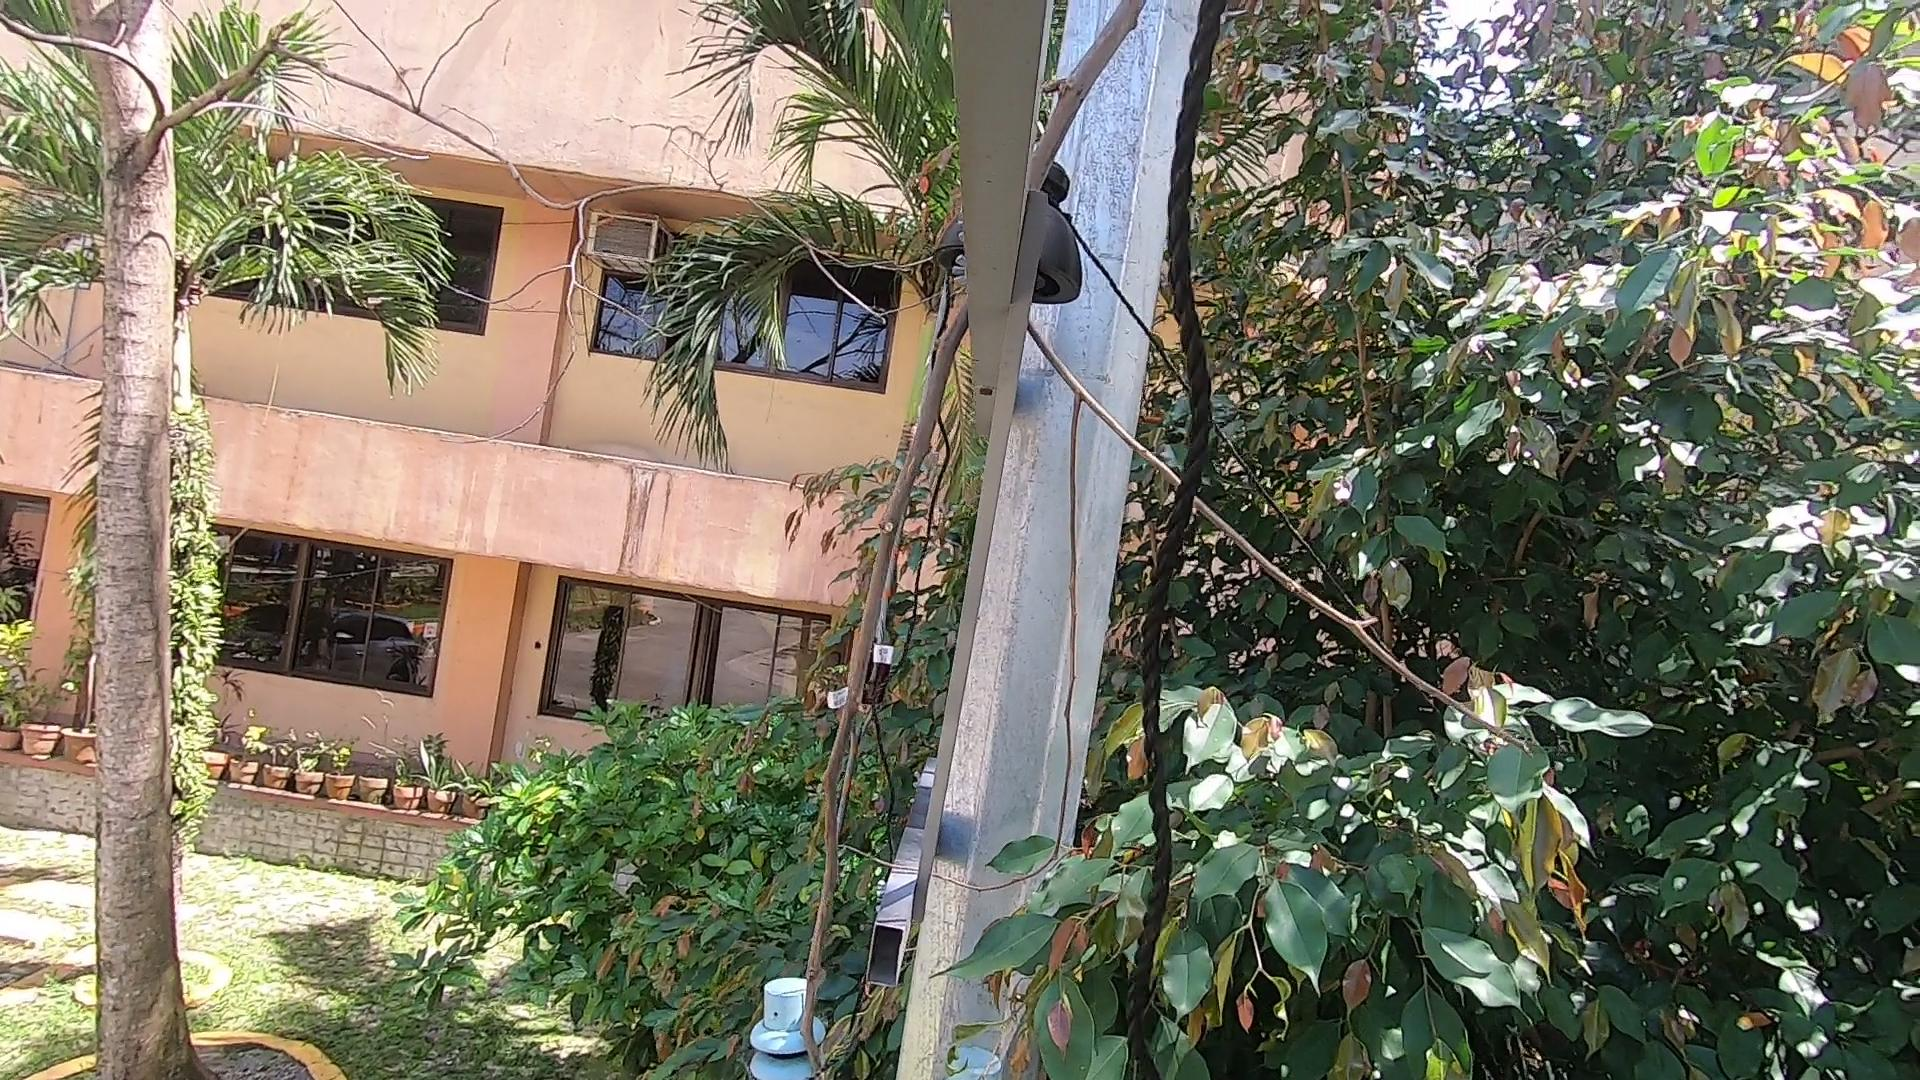branch with leaves: (934, 762, 1220, 1080)
tree branch: (760, 22, 1183, 1080)
